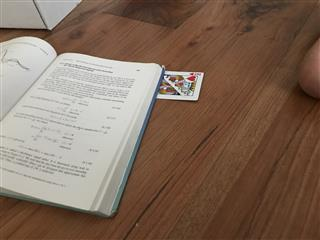KingOfHearts: (155, 70, 204, 101)
